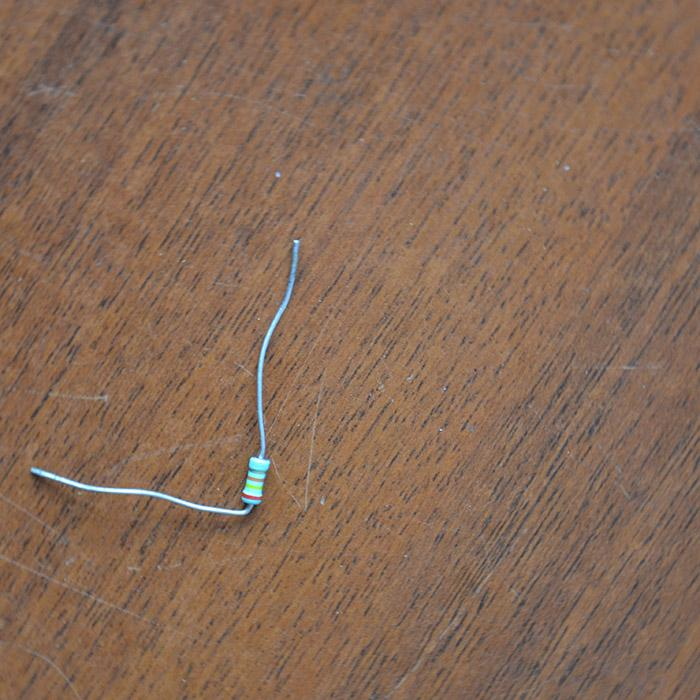resistor: (239, 454, 270, 504)
